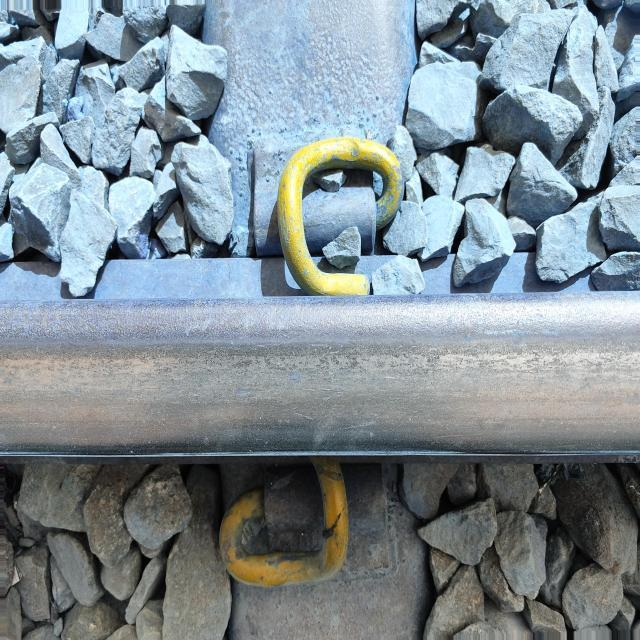Good Fasteners: (214, 93, 420, 312), (201, 446, 413, 623)
